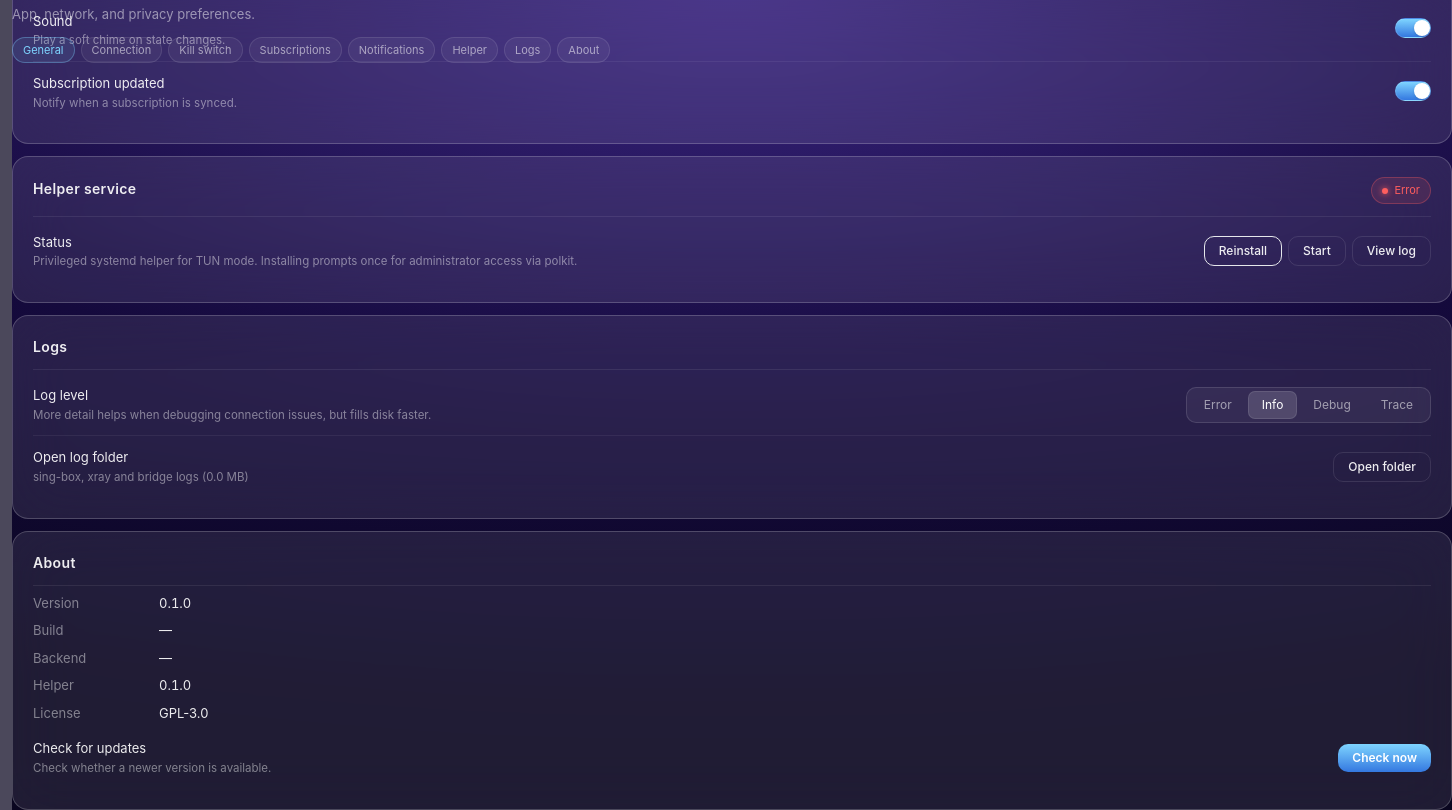
it: Settings — Update check › checkNow -> uptodate shows the up-to-date hint
This screenshot has width=1452, height=810.
(page scrolled)
Click the button "Check now".
click(1385, 758)  # box [1338,744,1431,772]
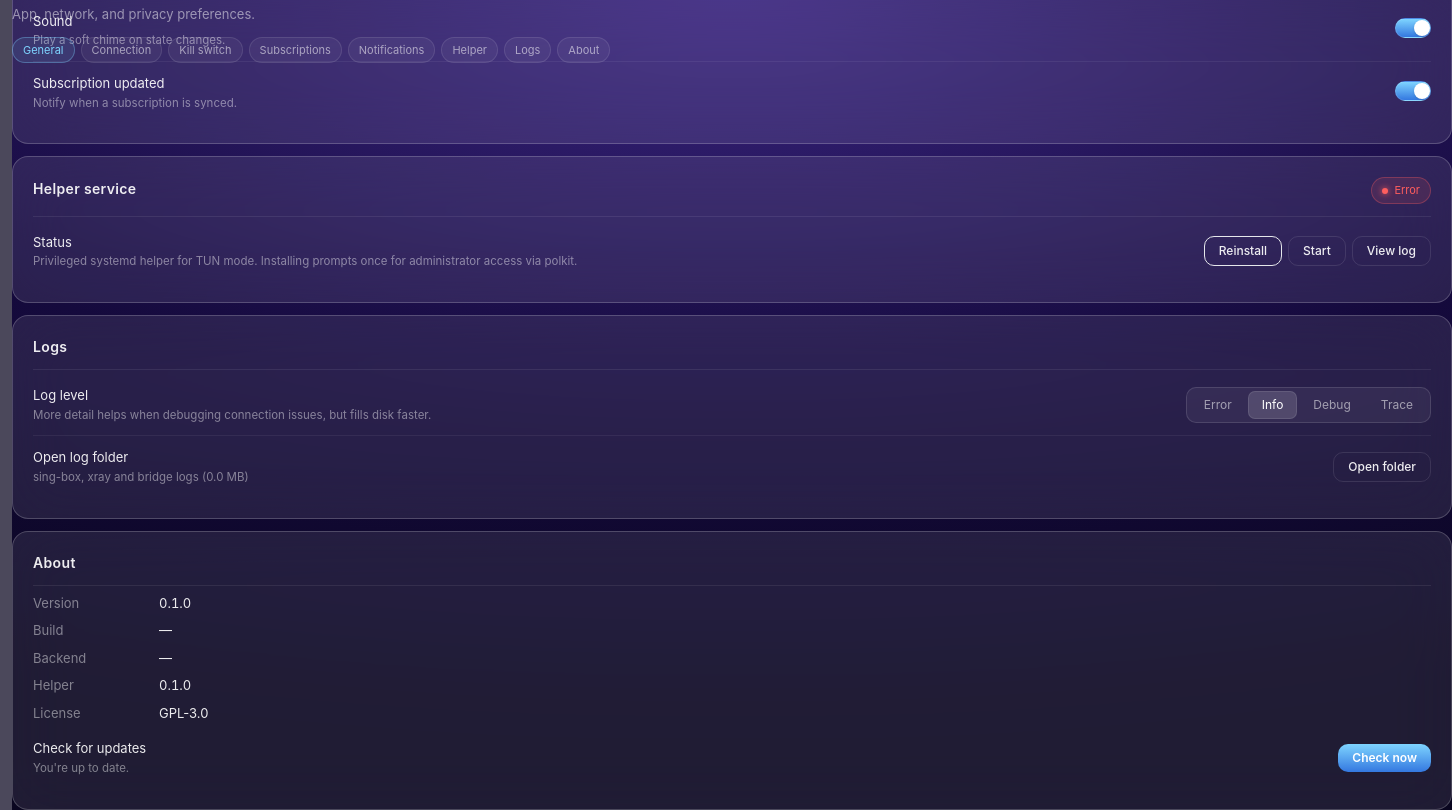
Check: the text "You're up to date." is shown, box [33,761,129,775]
